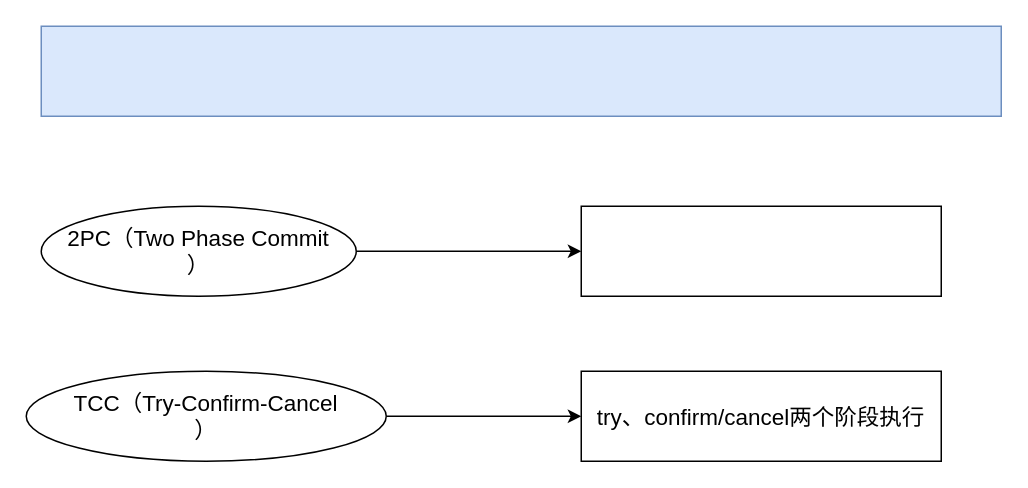
Image size: 1028x488. Some labels were removed from this diagram. Each missing label, with the centre of its shape:
准备阶段 prepare 提交阶段 commit: [760,250]
分布式事务: [520,70]
